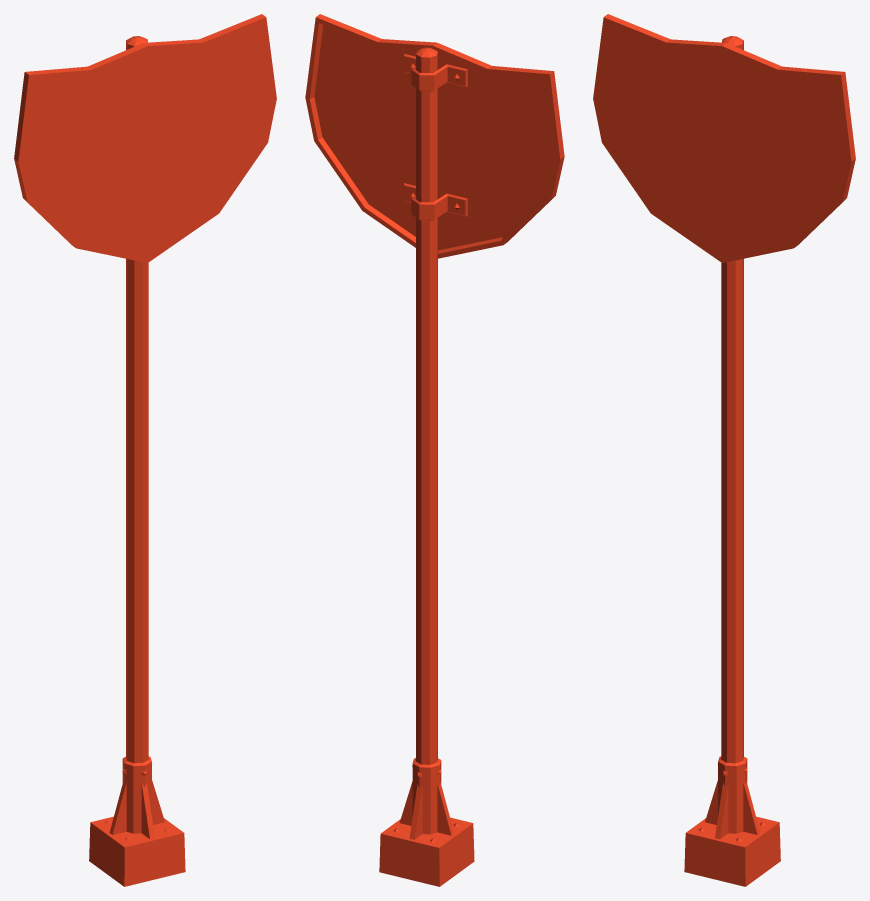
The model's file is SM_Sign_Route_Wide_B_City.fbx.
3 renders of one model, left to right at view 1: azimuth 30°, elevation 25°; view 2: azimuth 150°, elevation 25°; view 3: azimuth 330°, elevation 25°, orthographic.
Parts seen in each view (by area): view 1: SM_Sign_Route_Wide_B_City; view 2: SM_Sign_Route_Wide_B_City; view 3: SM_Sign_Route_Wide_B_City.
Boxes of the visible parts, x1=… form: SM_Sign_Route_Wide_B_City: x1=14, y1=14, x2=276, y2=886; SM_Sign_Route_Wide_B_City: x1=305, y1=14, x2=564, y2=886; SM_Sign_Route_Wide_B_City: x1=593, y1=14, x2=855, y2=886.
Bounding box in the file's own units: 0.7773 × 2.38 × 0.1839.
